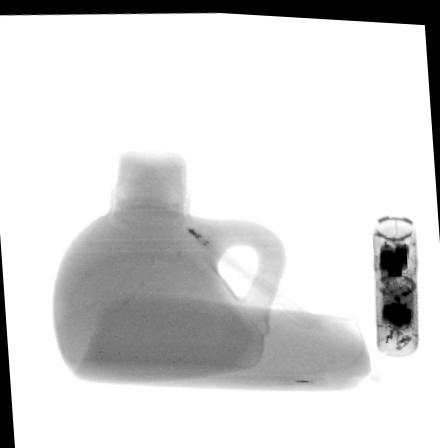Baton: (373, 208, 418, 355)
